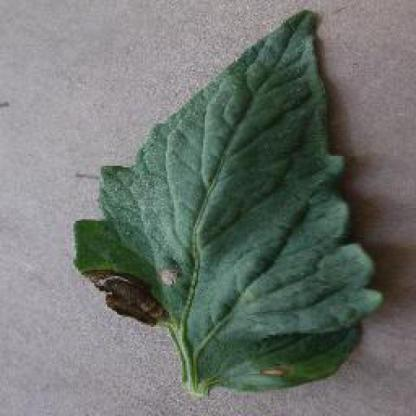Tomato_Blight: (75, 16, 380, 390)
